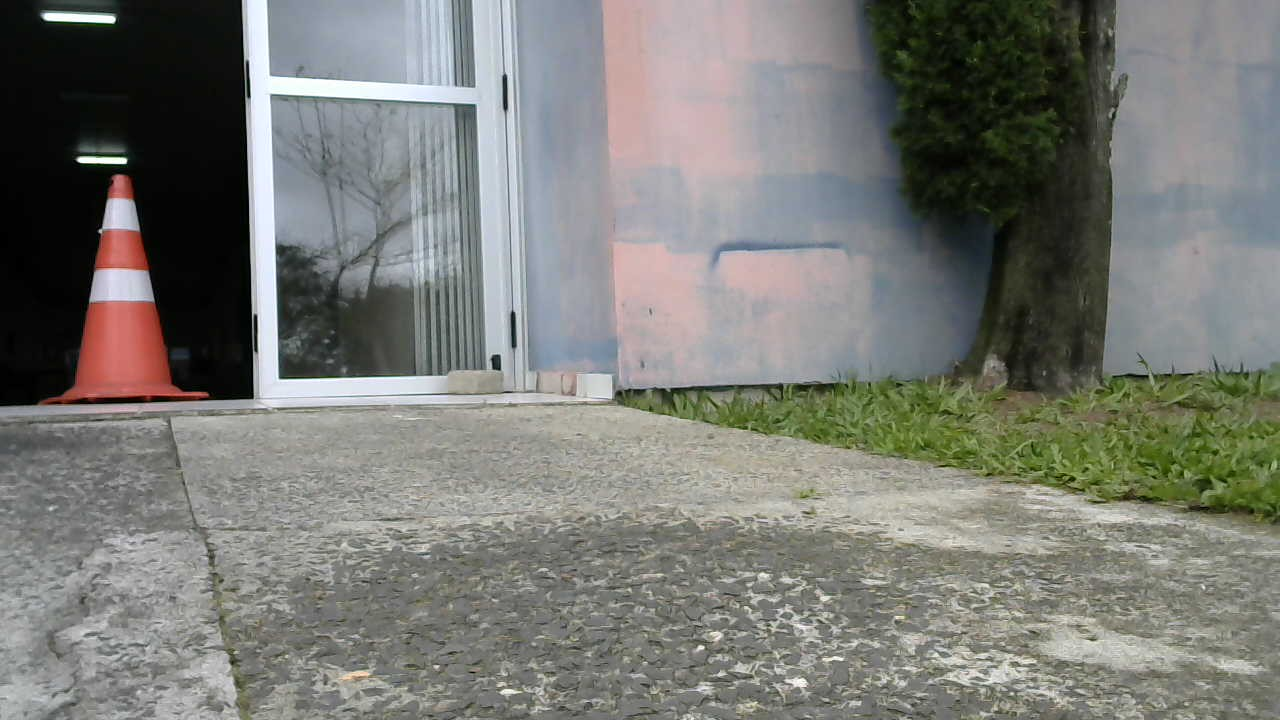cone: (39, 177, 207, 403)
